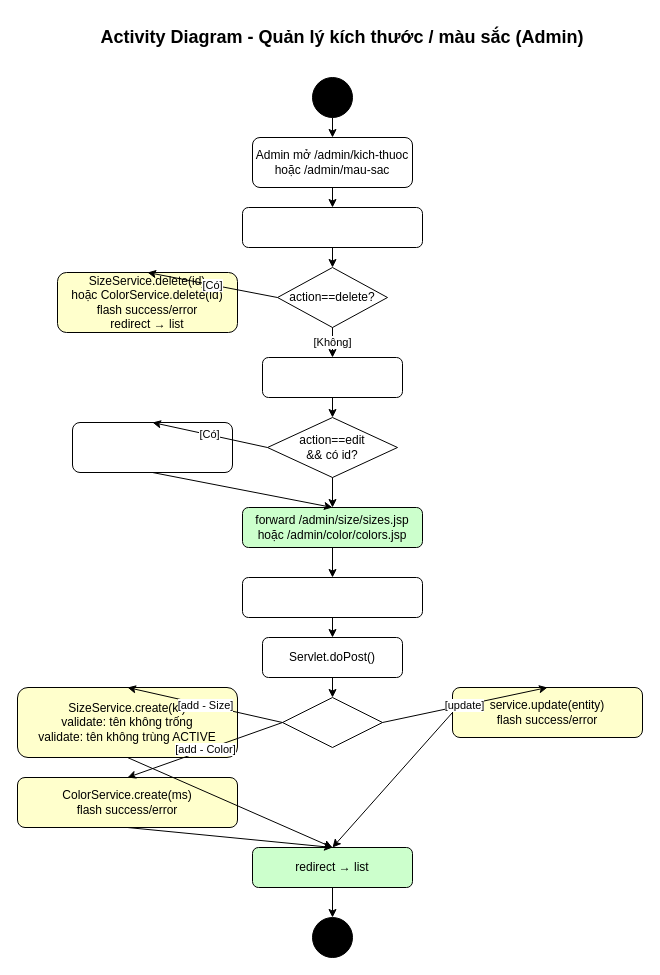
The diagram is 660 pixels wide and 975 high, and some of its shapes have lost their labels. The centre of each missing label's shape, as x and y in pixels:
"action==add?" belongs at (x=332, y=722).
"KichThuocServlet.doGet() hoặc MauSacServlet.doGet()" belongs at (x=332, y=227).
"list = service.getAll()" belongs at (x=332, y=377).
"POST /admin/kich-thuoc | mau-sac" belongs at (x=332, y=597).
"Set editing entity + openEditModal" belongs at (x=152, y=447).
